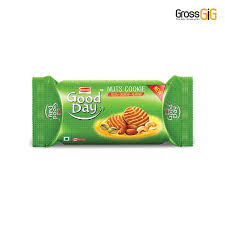gooday-small: (32, 78, 192, 144)
